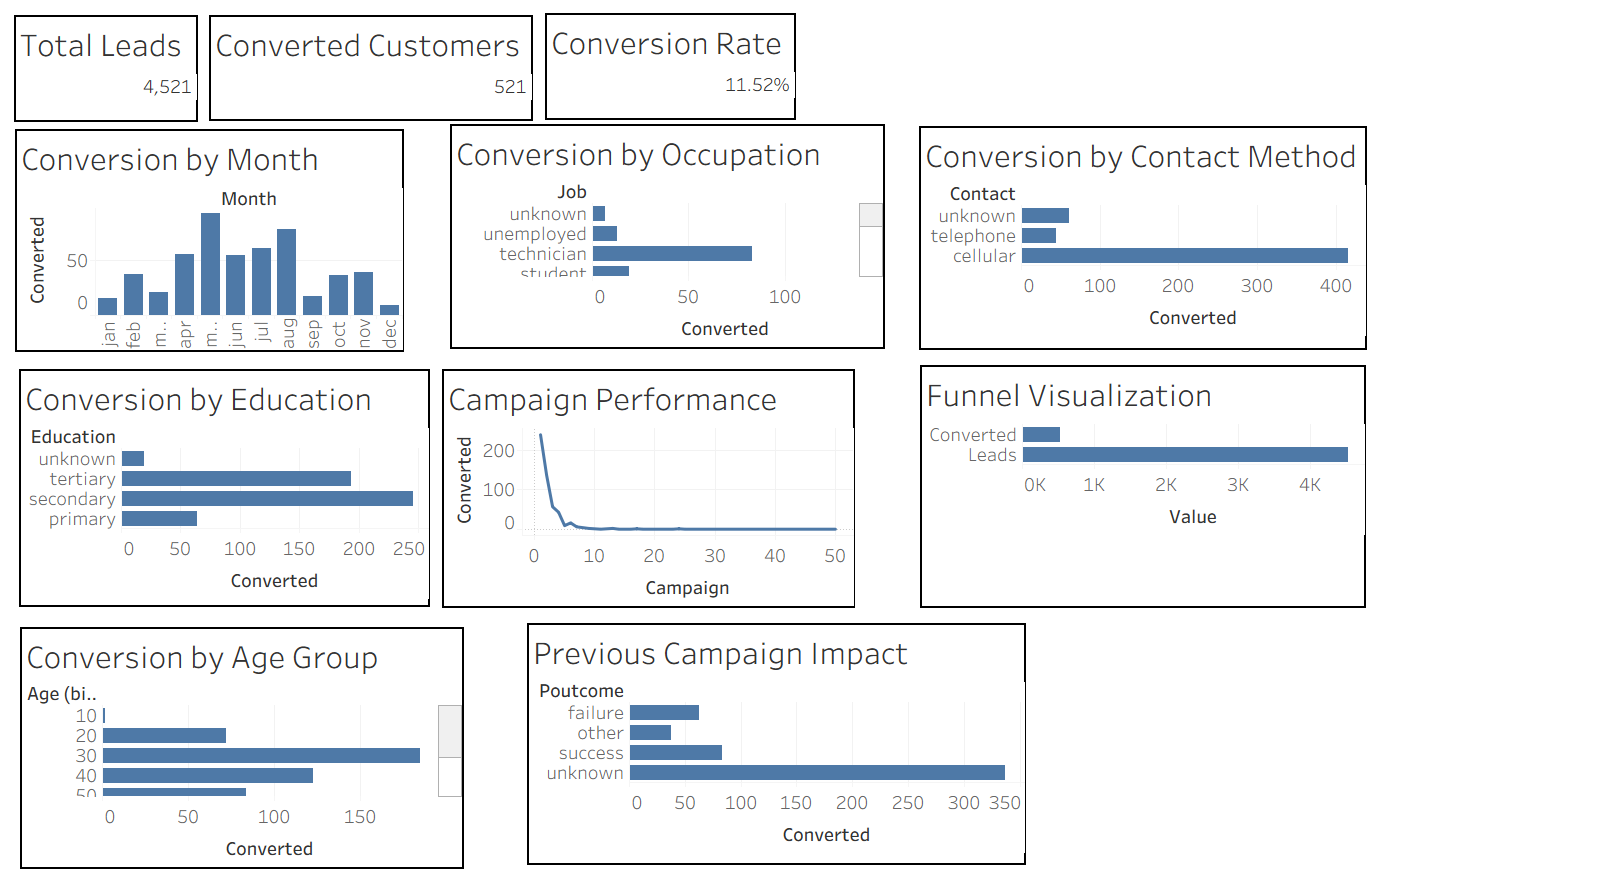

The page's visual inventory and layout, read from the dashboard file:
{"tool":"tableau","page":{"name":"Dashboard 1","canvas":[1000,1000],"units":"permille","ordinal":0},"visuals":[{"type":"worksheet","title":"Conversion Rate","mark":"Automatic","box":[339.8,14.8,156.5,121.9]},{"type":"worksheet","title":"Total Leads","mark":"Automatic","box":[8.7,17.1,114.7,121.9]},{"type":"worksheet","title":"Converted Customers","mark":"Automatic","box":[130.3,17.1,202,120.7]},{"type":"worksheet","title":"Conversion by Occupation","mark":"Automatic","rows":["job"],"cols":["Calculation_0523382256943104"],"box":[280.6,141.2,271.2,256.3]},{"type":"worksheet","title":"Conversion by Contact Method","mark":"Automatic","rows":["contact"],"cols":["Calculation_0523382256943104"],"box":[572.9,143.5,279.3,255.1]},{"type":"worksheet","title":"Conversion by Month","mark":"Bar","rows":["Calculation_0523382256943104"],"cols":["month"],"box":[9.3,146.9,242.5,254]},{"type":"worksheet","title":"Funnel Visualization","mark":"Automatic","box":[573.6,415.7,278.1,276.8]},{"type":"worksheet","title":"Conversion by Education","mark":"Automatic","rows":["education"],"cols":["Calculation_0523382256943104"],"box":[11.8,420.3,256.2,271.1]},{"type":"worksheet","title":"Campaign Performance","mark":"Line","rows":["Calculation_0523382256943104"],"cols":["campaign"],"box":[275.6,420.3,257.5,272.2]},{"type":"worksheet","title":"Previous Campaign Impact","mark":"Automatic","rows":["poutcome"],"cols":["Calculation_0523382256943104"],"box":[328.6,709.6,311.1,275.6]},{"type":"worksheet","title":"Conversion by Age Group","mark":"Automatic","rows":["Age (bin)"],"cols":["Calculation_0523382256943104"],"box":[12.5,714.1,276.8,275.6]}]}

Visuals, with their boxes on the dashboard's canvas, which has no fixed pixel size, in thousandths of its width and height (x1, y1, x2, y2). These are canvas units, not pixel positions in the 1604x878 screenshot, which may show the page scaled, cropped or inside an application window:
"Conversion Rate" worksheet: (340,15,496,137)
"Total Leads" worksheet: (9,17,123,139)
"Converted Customers" worksheet: (130,17,332,138)
"Conversion by Occupation" worksheet: (281,141,552,398)
"Conversion by Contact Method" worksheet: (573,144,852,399)
"Conversion by Month" worksheet (Bar marks): (9,147,252,401)
"Funnel Visualization" worksheet: (574,416,852,692)
"Conversion by Education" worksheet: (12,420,268,691)
"Campaign Performance" worksheet (Line marks): (276,420,533,692)
"Previous Campaign Impact" worksheet: (329,710,640,985)
"Conversion by Age Group" worksheet: (12,714,289,990)
